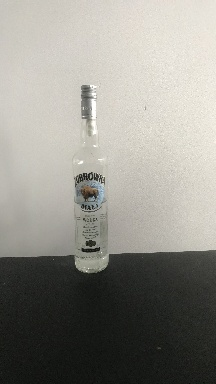butelka: (70, 81, 109, 276)
